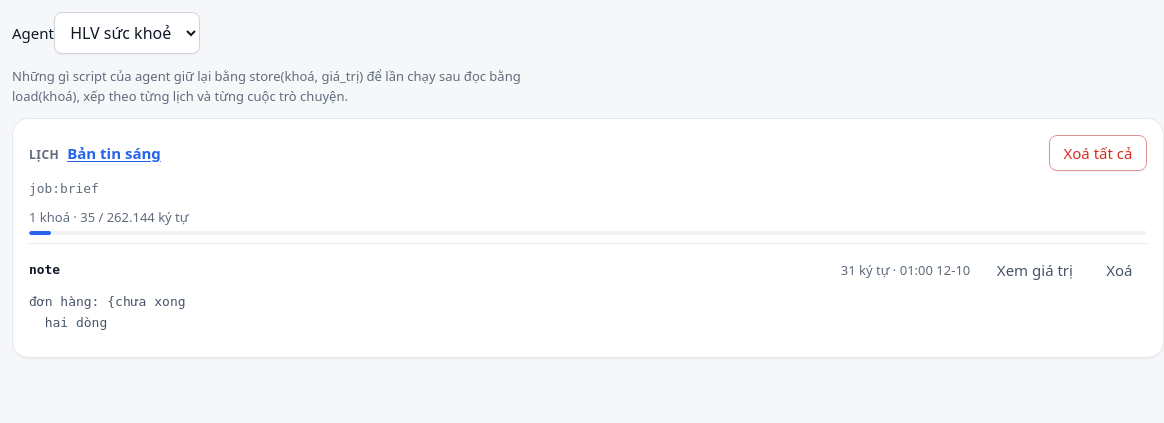
a key's whole value › is shown as it is kept when it is not JSON, with a line saying so
This screenshot has width=1164, height=423.
Click the button "Xem giá trị". click: [1035, 270]
box: [982,252,1088,288]
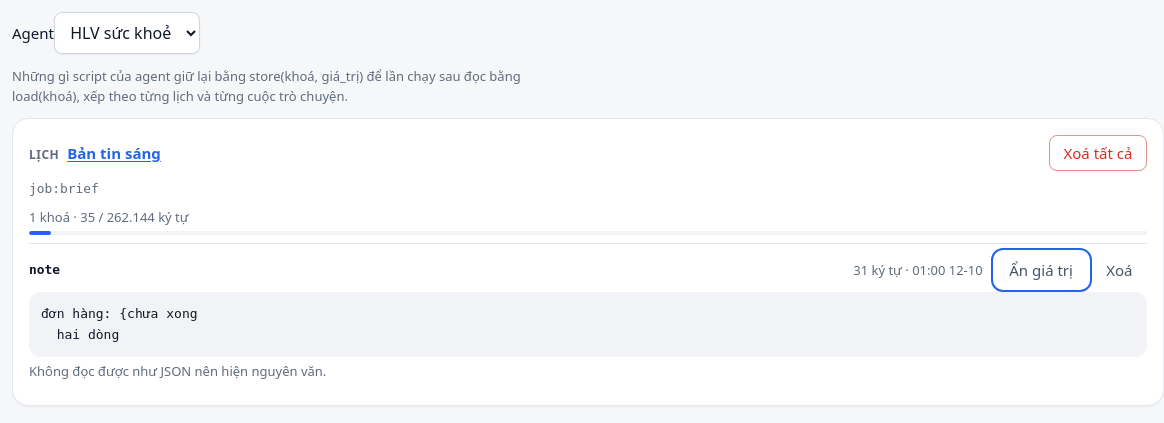
expect the text "Không đọc được như JSON nên hiện nguyên văn." is shown: met, box [29,362,326,380]
